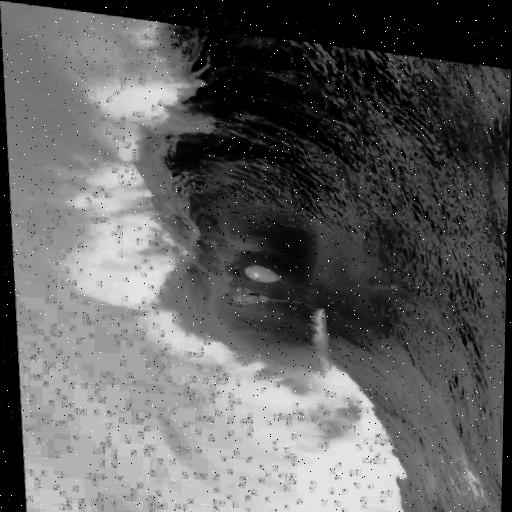balloon: (243, 260, 276, 279), (228, 282, 259, 301)
